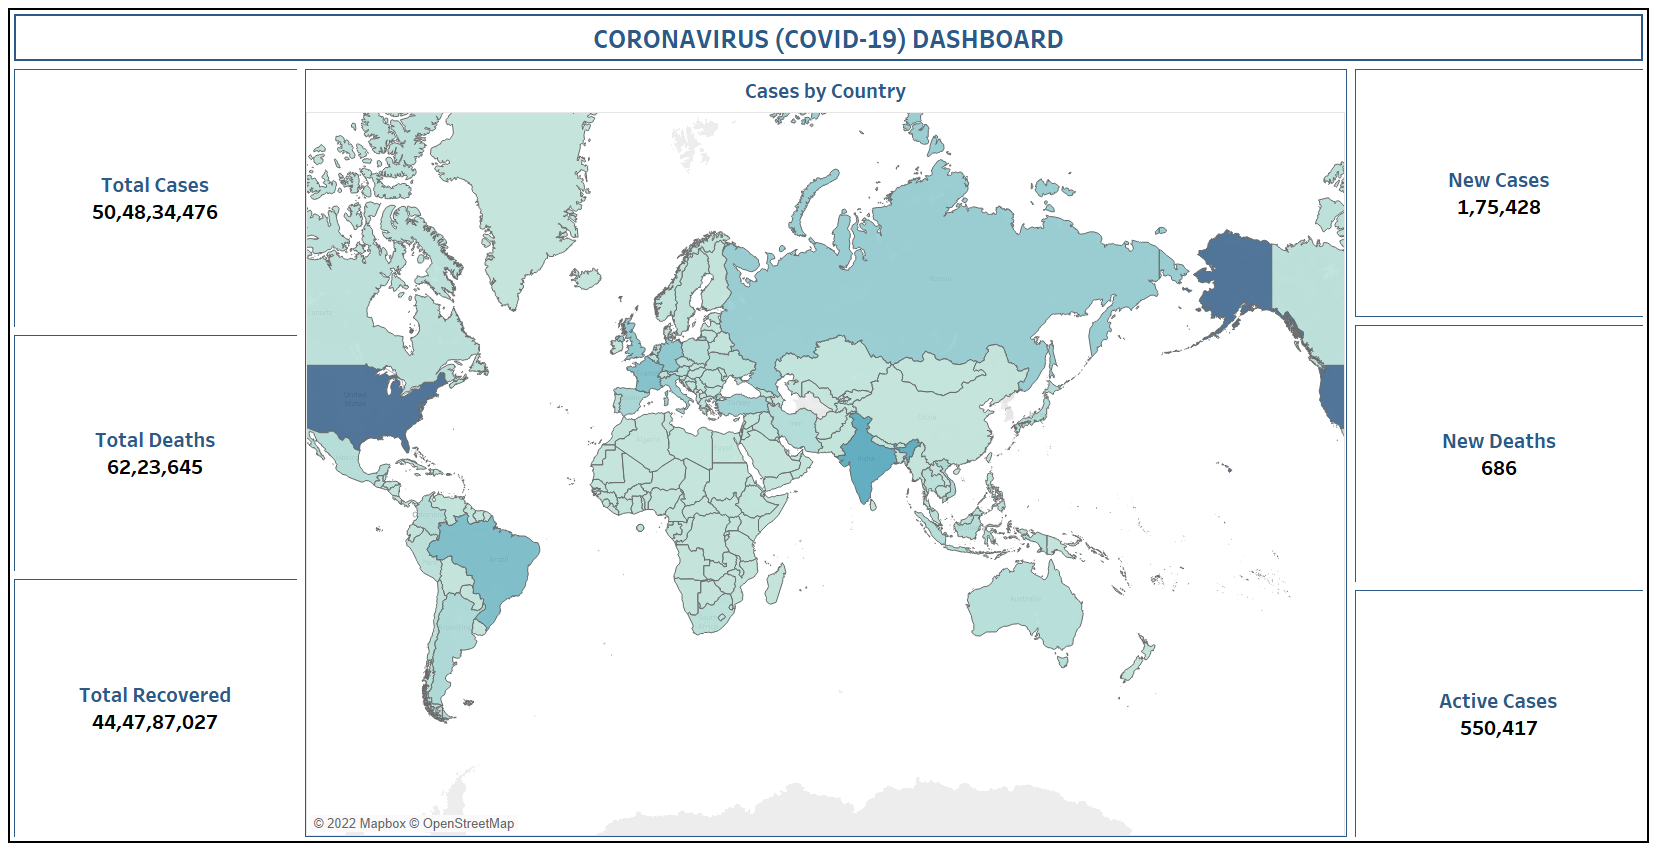

Layout of this report page (visuals, bound fields, positions):
{"tool":"tableau","page":{"name":"Dashboard 1","canvas":[1000,1000],"units":"permille","ordinal":0},"visuals":[{"type":"text","box":[6,11.8,987.9,65]},{"type":"worksheet","title":"cases","mark":"Automatic","box":[6,76.8,175.9,312.4]},{"type":"worksheet","title":"country","mark":"Multipolygon","box":[181.9,76.8,633.3,911.5]},{"type":"worksheet","title":"new cases","mark":"Automatic","box":[815.2,76.8,178.8,300]},{"type":"worksheet","title":"new deaths","mark":"Automatic","box":[815.2,376.8,178.8,311.4]},{"type":"worksheet","title":"deaths","mark":"Automatic","box":[6,389.2,175.9,286.7]},{"type":"worksheet","title":"recovered","mark":"Automatic","box":[6,675.9,175.9,312.4]},{"type":"worksheet","title":"active cases","mark":"Automatic","box":[815.2,688.2,178.8,300]}]}

Visuals, with their boxes on the dashboard's canvas, which has no fixed pixel size, in thousandths of its width and height (x1, y1, x2, y2). These are canvas units, not pixel positions in the 1657x851 screenshot, which may show the page scaled, cropped or inside an application window:
text: (x1=6, y1=12, x2=994, y2=77)
"cases" worksheet: (x1=6, y1=77, x2=182, y2=389)
"country" worksheet (Multipolygon marks): (x1=182, y1=77, x2=815, y2=988)
"new cases" worksheet: (x1=815, y1=77, x2=994, y2=377)
"new deaths" worksheet: (x1=815, y1=377, x2=994, y2=688)
"deaths" worksheet: (x1=6, y1=389, x2=182, y2=676)
"recovered" worksheet: (x1=6, y1=676, x2=182, y2=988)
"active cases" worksheet: (x1=815, y1=688, x2=994, y2=988)
